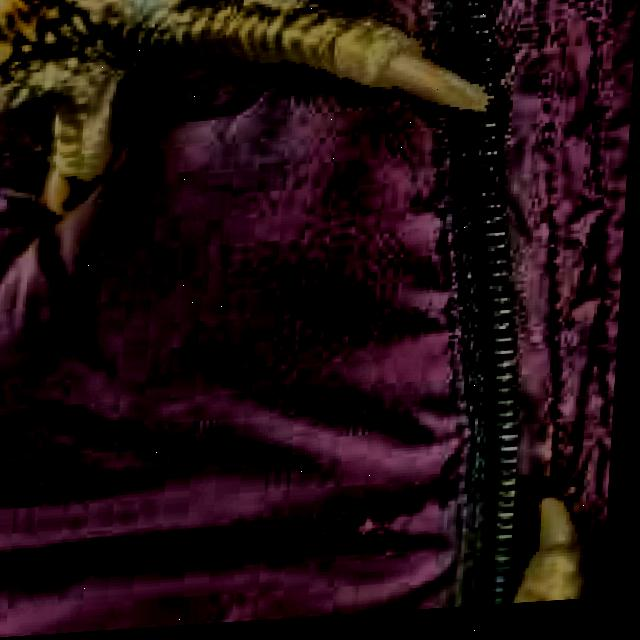Bumble foot: (0, 0, 395, 138)
